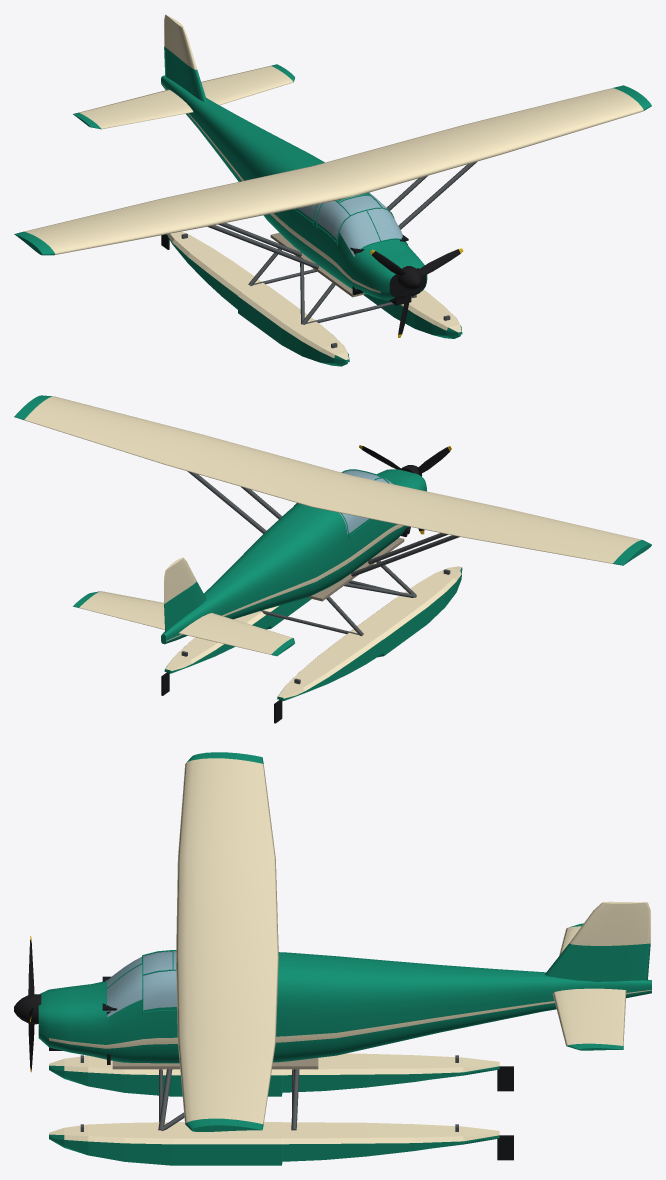
File: Seaplane.glb
3 views of the same model, one above another, from view 1: azimuth 30°, elevation 25°; view 2: azimuth 150°, elevation 25°; view 3: azimuth 270°, elevation 25° (orthographic). The views are drawn at different scales.
Parts seen in each view (by area): view 1: Wing, Fuselage, Floats, Tail, Glass, Struts, Propeller, Cabin; view 2: Wing, Fuselage, Floats, Tail, Struts, Propeller, Cabin, Glass; view 3: Wing, Fuselage, Floats, Tail, Glass, Cabin, Propeller, Struts.
Boxes of the visible parts, box(x1,y1,x2,y2) form: Wing: box(14, 85, 651, 255); Fuselage: box(161, 75, 427, 305); Floats: box(161, 231, 462, 366); Tail: box(73, 14, 294, 129); Glass: box(297, 192, 402, 256); Struts: box(207, 161, 477, 324); Propeller: box(370, 248, 463, 337); Cabin: box(270, 232, 408, 297); Wing: box(14, 395, 651, 565); Fuselage: box(161, 469, 426, 644); Floats: box(161, 566, 462, 723); Tail: box(73, 557, 294, 656); Struts: box(187, 471, 459, 636); Propeller: box(359, 445, 451, 534); Cabin: box(307, 528, 407, 601); Glass: box(339, 470, 393, 534); Wing: box(176, 752, 278, 1131); Fuselage: box(38, 950, 651, 1063); Floats: box(49, 1053, 513, 1165); Tail: box(544, 901, 650, 1050); Glass: box(107, 951, 176, 1017); Cabin: box(102, 976, 318, 1069); Propeller: box(14, 936, 41, 1072); Struts: box(158, 1069, 299, 1130).
Bounding box in the file's own units: 14.6 × 4.15 × 10.55.
